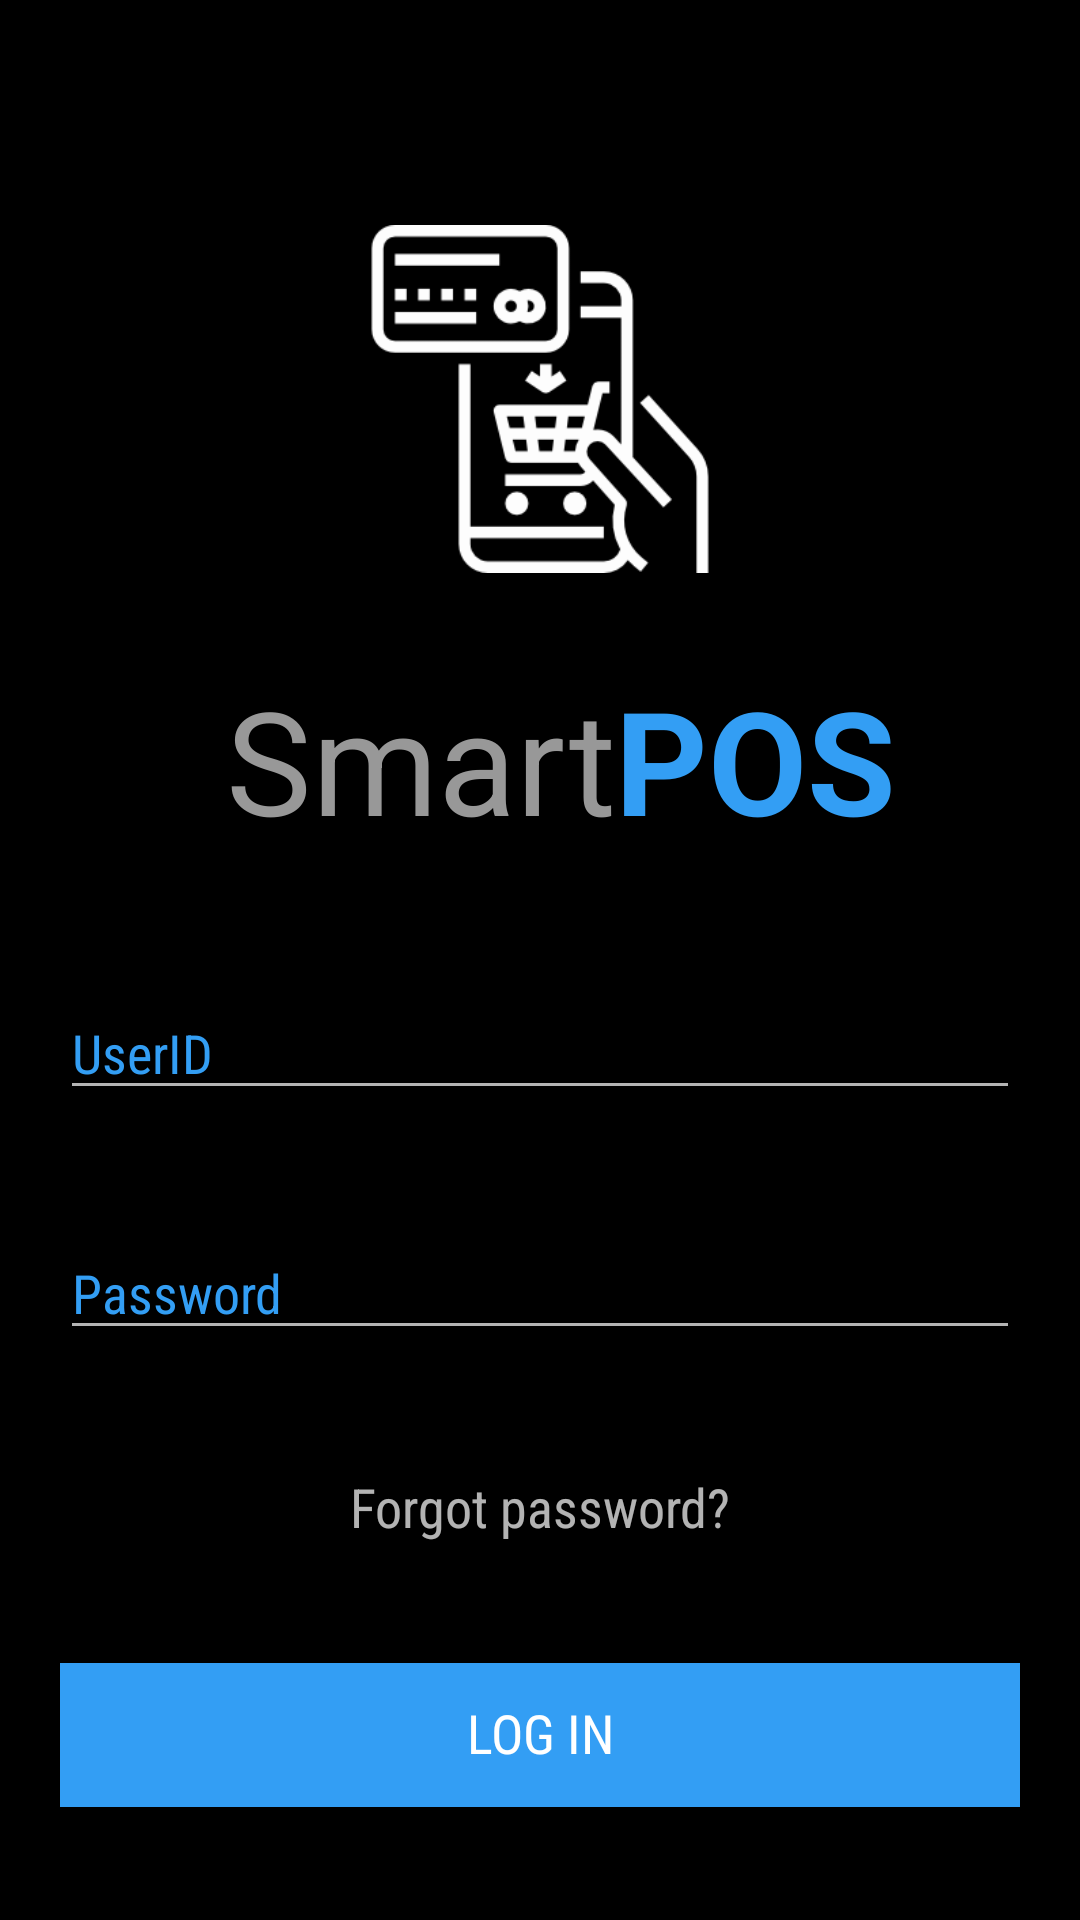

Icons on this 1080 × 1920 Android screen, each with the point to tap as (x,y):
onlineshop: (540,399)
